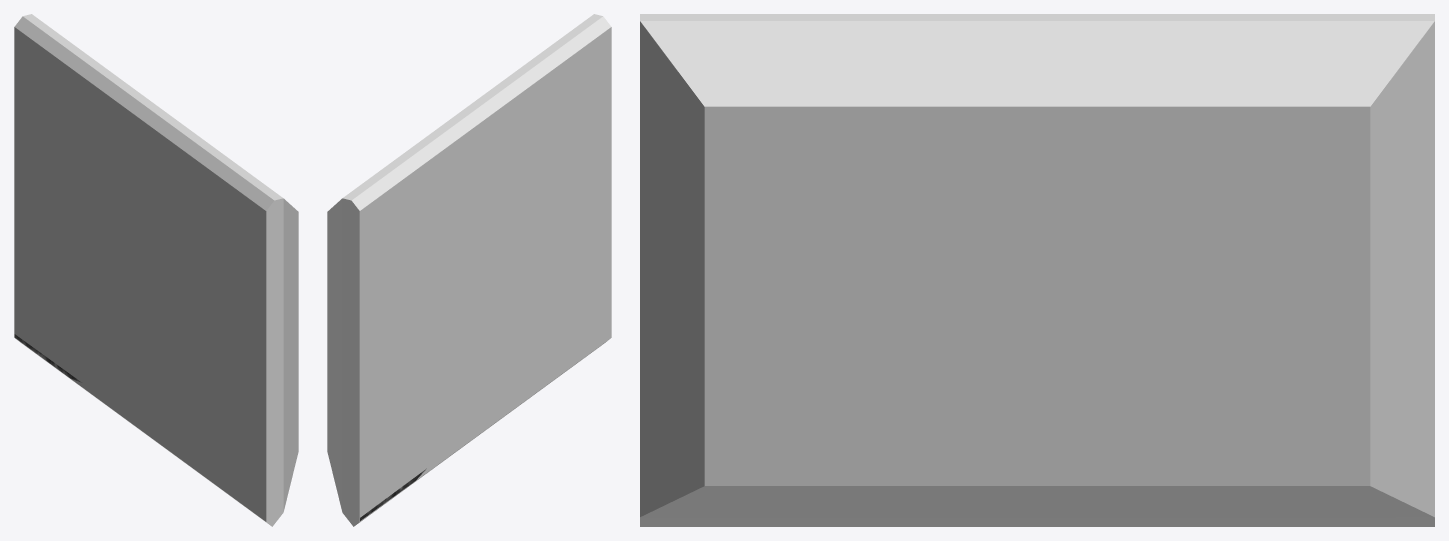
The model's file is SM_house_wall_04.fbx.
3 renders of one model, left to right at view 1: azimuth 30°, elevation 25°; view 2: azimuth 150°, elevation 25°; view 3: azimuth 270°, elevation 25°, orthographic. The views are drawn at different scales.
Parts seen in each view (by area): view 1: SM_house_wall_04_ConvexHulls; view 2: SM_house_wall_04_ConvexHulls; view 3: SM_house_wall_04_ConvexHulls.
Boxes of the visible parts, x1,y1,x2,y2 form: SM_house_wall_04_ConvexHulls: (14,14,298,526); SM_house_wall_04_ConvexHulls: (327,14,611,526); SM_house_wall_04_ConvexHulls: (640,14,1434,526).
Bounding box in the file's own units: 84.92 × 700 × 500.
